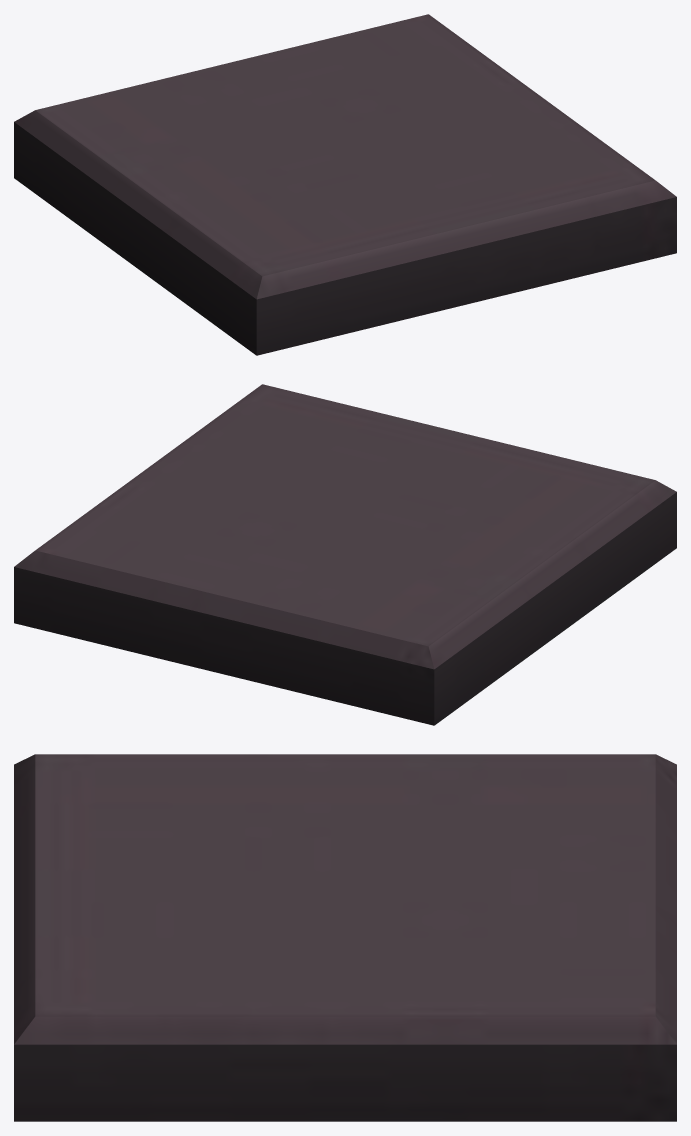
Rendered from foundation.glb.
3 renders of one model, top to bottom at view 1: azimuth 30°, elevation 25°; view 2: azimuth 150°, elevation 25°; view 3: azimuth 270°, elevation 25°, orthographic. The views are drawn at different scales.
Parts seen in each view (by area): view 1: foundation; view 2: foundation; view 3: foundation.
Part boxes in pixels (x1,y1,x2,y2): foundation: (14,14,676,355); foundation: (14,384,676,725); foundation: (14,754,676,1121).
Bounding box in the file's own units: 0.25 × 0.04 × 0.25.
1 material, 1 textured.
